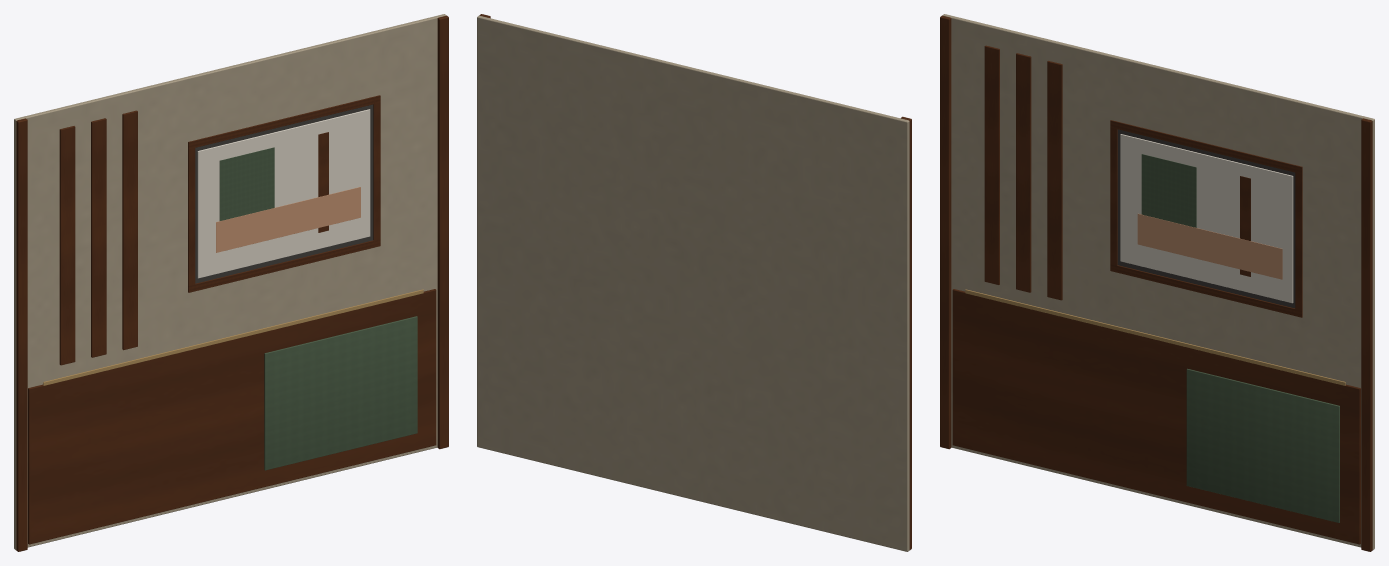
Rendered from bedroom-feature.glb.
The picture shows the model from 3 angles, left to right: view 1: azimuth 30°, elevation 25°; view 2: azimuth 150°, elevation 25°; view 3: azimuth 330°, elevation 25°; orthographic projection.
Visible parts, largest first — view 1: CANONICAL warm plaster substrate, ACCENT lower walnut field, ACCENT inset sage layer, ACCENT artwork canvas, CANONICAL walnut depth rail, CANONICAL walnut depth rail.001, ACCENT artwork clay horizon, ACCENT walnut upper batten 1, ACCENT walnut upper batten 3, ACCENT walnut upper batten 2, ACCENT artwork sage plane, ACCENT artwork shadow mount (+6 smaller); view 2: CANONICAL warm plaster substrate, CANONICAL walnut depth rail; view 3: CANONICAL warm plaster substrate, ACCENT lower walnut field, ACCENT inset sage layer, ACCENT artwork canvas, CANONICAL walnut depth rail, CANONICAL walnut depth rail.001, ACCENT artwork clay horizon, ACCENT walnut upper batten 2, ACCENT walnut upper batten 3, ACCENT walnut upper batten 1, ACCENT artwork sage plane, ACCENT artwork shadow mount (+6 smaller).
Boxes of the visible parts, box(x1,y1,x2,y2) form: CANONICAL warm plaster substrate: box(14, 14, 446, 549); ACCENT lower walnut field: box(28, 289, 436, 544); ACCENT inset sage layer: box(264, 316, 417, 470); ACCENT artwork canvas: box(197, 109, 370, 278); CANONICAL walnut depth rail: box(16, 118, 27, 551); CANONICAL walnut depth rail.001: box(437, 15, 448, 449); ACCENT artwork clay horizon: box(216, 187, 360, 252); ACCENT walnut upper batten 1: box(59, 126, 75, 365); ACCENT walnut upper batten 3: box(122, 110, 137, 350); ACCENT walnut upper batten 2: box(91, 118, 106, 357); ACCENT artwork sage plane: box(219, 147, 274, 220); ACCENT artwork shadow mount: box(195, 104, 373, 283); CANONICAL warm plaster substrate: box(477, 15, 909, 551); CANONICAL walnut depth rail: box(901, 116, 911, 549); CANONICAL warm plaster substrate: box(942, 14, 1374, 549); ACCENT lower walnut field: box(952, 289, 1360, 544); ACCENT inset sage layer: box(1186, 368, 1339, 522); ACCENT artwork canvas: box(1120, 134, 1293, 303); CANONICAL walnut depth rail: box(940, 15, 951, 449); CANONICAL walnut depth rail.001: box(1361, 118, 1372, 551); ACCENT artwork clay horizon: box(1137, 213, 1282, 279); ACCENT walnut upper batten 2: box(1016, 53, 1031, 292); ACCENT walnut upper batten 3: box(1047, 61, 1062, 300); ACCENT walnut upper batten 1: box(984, 45, 999, 284); ACCENT artwork sage plane: box(1141, 154, 1196, 227); ACCENT artwork shadow mount: box(1117, 129, 1295, 308).
Bounding box in the file's own units: 2.2 × 2.1 × 0.04.
Materials: 7 (3 with a texture image).
